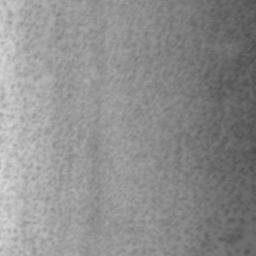Pitted surface: (156, 0, 256, 256), (0, 1, 84, 256), (124, 6, 185, 63), (79, 135, 105, 235), (116, 198, 160, 254), (128, 83, 168, 119), (0, 153, 41, 185), (77, 23, 105, 52)
